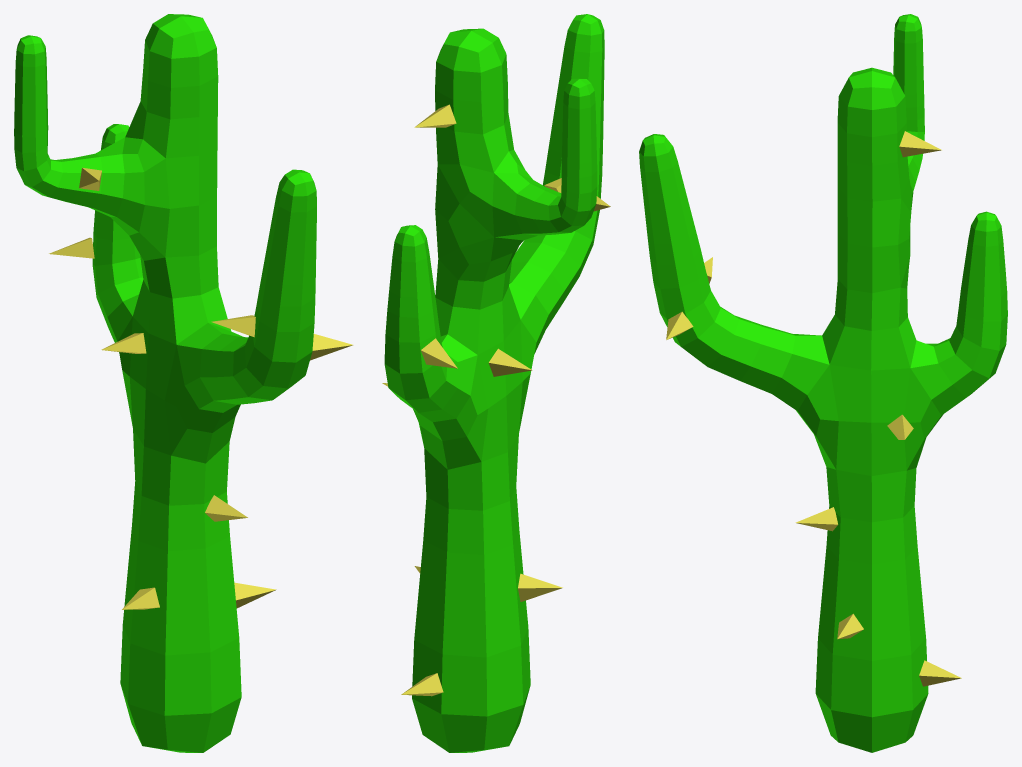
File: Cactus.fbx
The picture shows the model from 3 angles, left to right: view 1: azimuth 30°, elevation 25°; view 2: azimuth 150°, elevation 25°; view 3: azimuth 270°, elevation 25°; orthographic projection. The views are drawn at different scales.
Visible parts, largest first — view 1: Cactus; view 2: Cactus; view 3: Cactus.
Boxes of the visible parts, x1,y1,x2,y2 form: Cactus: [14, 14, 352, 752]; Cactus: [382, 14, 610, 752]; Cactus: [639, 14, 1007, 752].
Size of the model in its own units: 0.9716 by 3.08 by 1.52.
